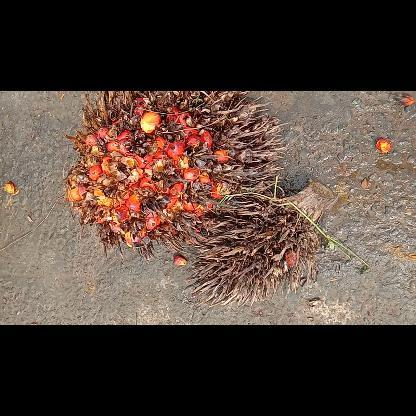Janjang kosong: (182, 181, 334, 306)
Terlalu masak: (64, 91, 288, 263)
